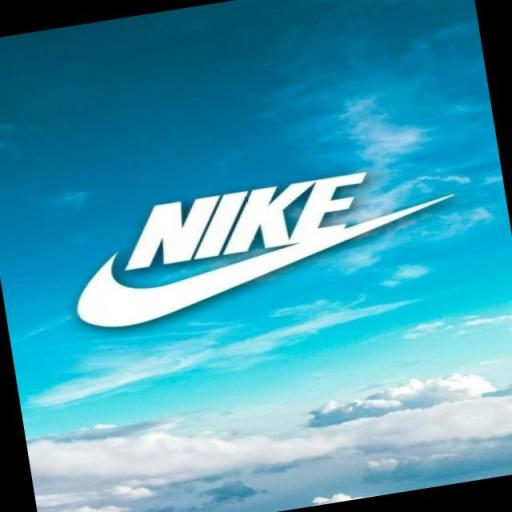Nike: (60, 193, 473, 341), (113, 168, 381, 276)
